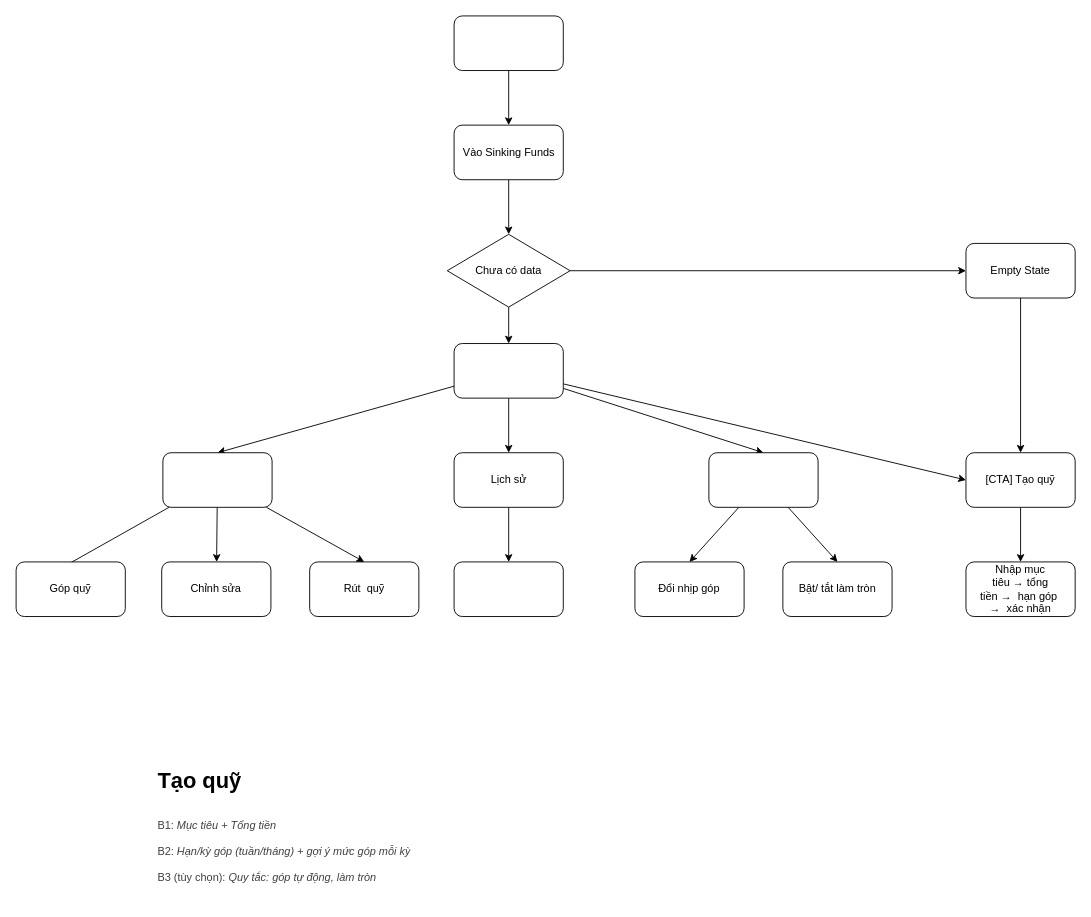
Some shapes in this 1091 by 917 pixel diagram are drawn without their labels. The centre of each missing label's shape, as x and y in pixels:
"Chi tiết quỹ" goes at pixel 217 479.
"Cài đặt" goes at pixel 763 479.
"Lọc và tìm kiếm" goes at pixel 508 589.
"Màn hình sinking funds" goes at pixel 508 370.
"Đã Login" goes at pixel 508 43.
